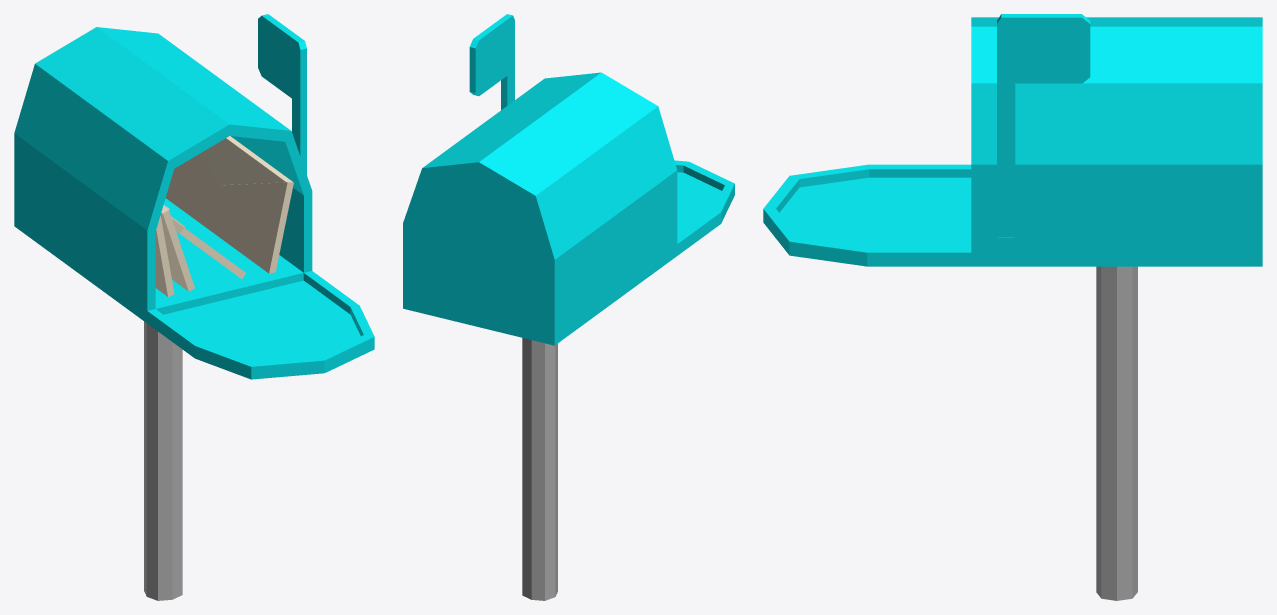
File: mail.gltf
The picture shows the model from 3 angles, left to right: view 1: azimuth 30°, elevation 25°; view 2: azimuth 150°, elevation 25°; view 3: azimuth 270°, elevation 25°; orthographic projection. The views are drawn at different scales.
Parts seen in each view (by area): view 1: Mailbox, Letters; view 2: Mailbox; view 3: Mailbox.
Boxes of the visible parts, <box> form: Mailbox: <box>14,14,374,600</box>; Letters: <box>155,136,293,296</box>; Mailbox: <box>403,14,734,600</box>; Mailbox: <box>763,14,1262,600</box>.
Size of the model in its own units: 0.52 by 1.65 by 1.2.
